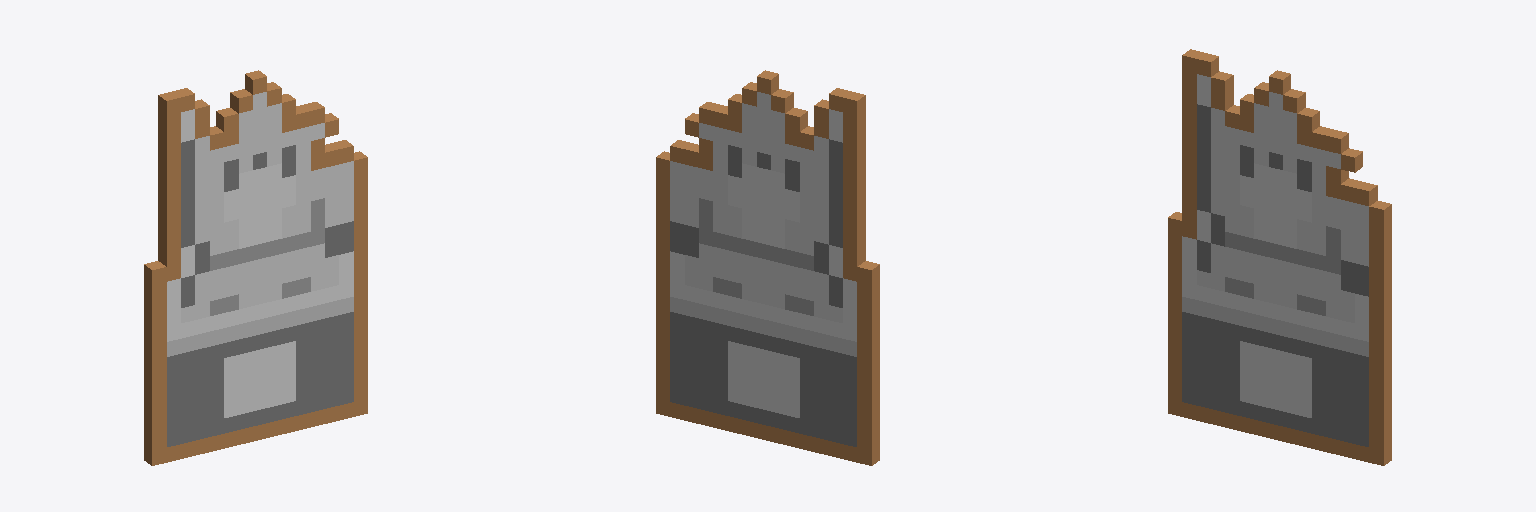
3 renders of one model, left to right at view 1: azimuth 30°, elevation 25°; view 2: azimuth 150°, elevation 25°; view 3: azimuth 330°, elevation 25°, orthographic.
Size of the model in its own units: 15 by 24 by 1.
Materials: 1 (1 with a texture image).